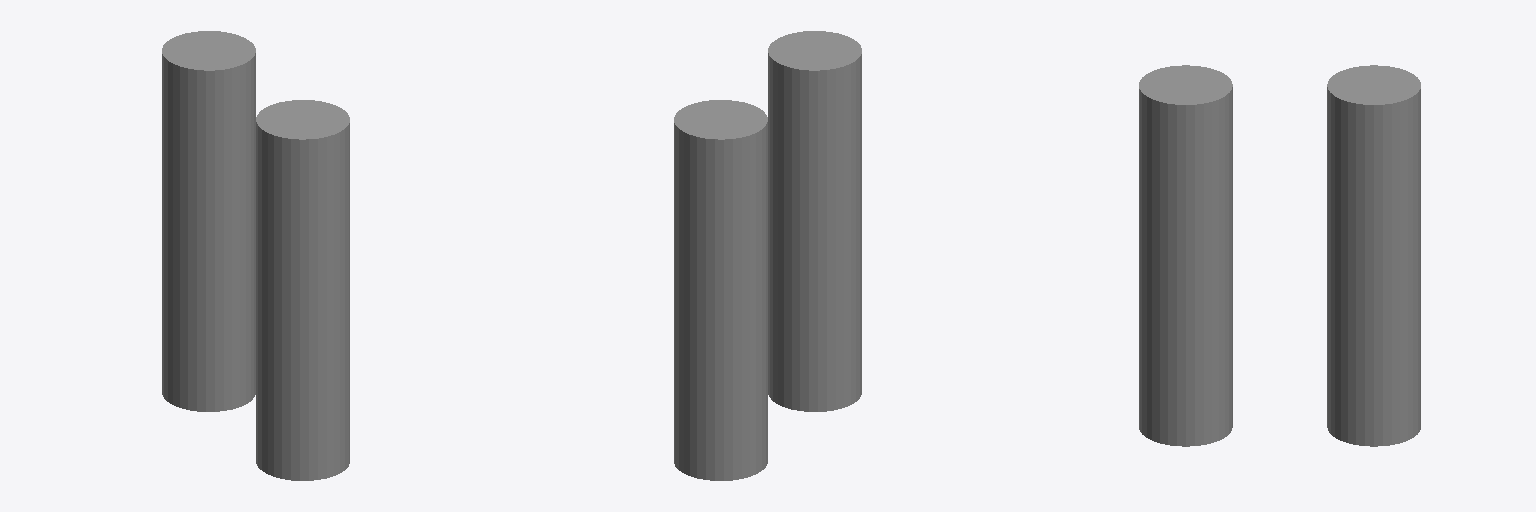
The model's file is straight.obj.
The picture shows the model from 3 angles: view 1: azimuth 30°, elevation 25°; view 2: azimuth 150°, elevation 25°; view 3: azimuth 270°, elevation 25°; orthographic projection.
Visible parts, largest first — view 1: Shape_IndexedFaceSet.001_Shape_IndexedFaceSet.011, Shape_IndexedFaceSet_Shape_IndexedFaceSet.010; view 2: Shape_IndexedFaceSet.001_Shape_IndexedFaceSet.011, Shape_IndexedFaceSet_Shape_IndexedFaceSet.010; view 3: Shape_IndexedFaceSet.001_Shape_IndexedFaceSet.011, Shape_IndexedFaceSet_Shape_IndexedFaceSet.010.
Part boxes in pixels (x1,y1,x2,y2): Shape_IndexedFaceSet.001_Shape_IndexedFaceSet.011: (162, 31, 255, 411); Shape_IndexedFaceSet_Shape_IndexedFaceSet.010: (256, 100, 349, 480); Shape_IndexedFaceSet.001_Shape_IndexedFaceSet.011: (674, 100, 767, 480); Shape_IndexedFaceSet_Shape_IndexedFaceSet.010: (768, 31, 861, 411); Shape_IndexedFaceSet.001_Shape_IndexedFaceSet.011: (1327, 65, 1420, 446); Shape_IndexedFaceSet_Shape_IndexedFaceSet.010: (1139, 65, 1232, 446).
Size of the model in its own units: 20 by 80 by 60.